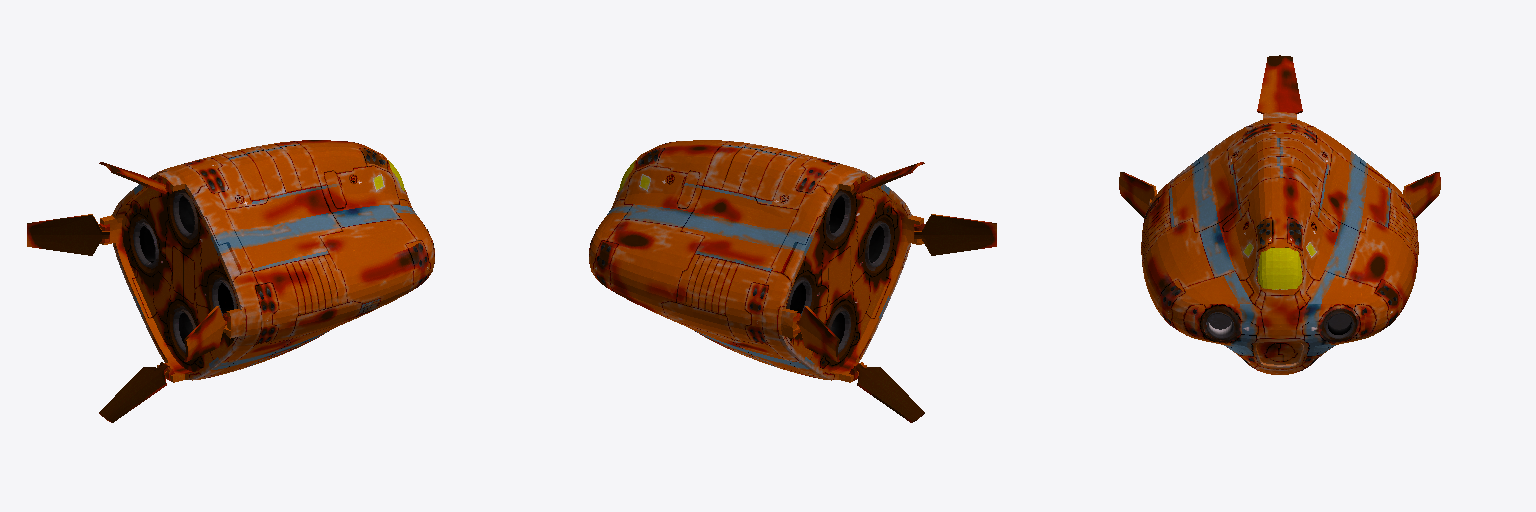
3 views of the same model, side by side, from view 1: azimuth 30°, elevation 25°; view 2: azimuth 150°, elevation 25°; view 3: azimuth 270°, elevation 25° (orthographic).
Visible parts, largest first — view 1: Smalltrans-LOD1_Plane.005; view 2: Smalltrans-LOD1_Plane.005; view 3: Smalltrans-LOD1_Plane.005.
Boxes of the visible parts, x1=… form: Smalltrans-LOD1_Plane.005: x1=27, y1=140, x2=434, y2=422; Smalltrans-LOD1_Plane.005: x1=589, y1=140, x2=996, y2=422; Smalltrans-LOD1_Plane.005: x1=1119, y1=55, x2=1440, y2=374.
Size of the model in its own units: 3.48 by 2.82 by 3.22.
1 materials, 1 textured.